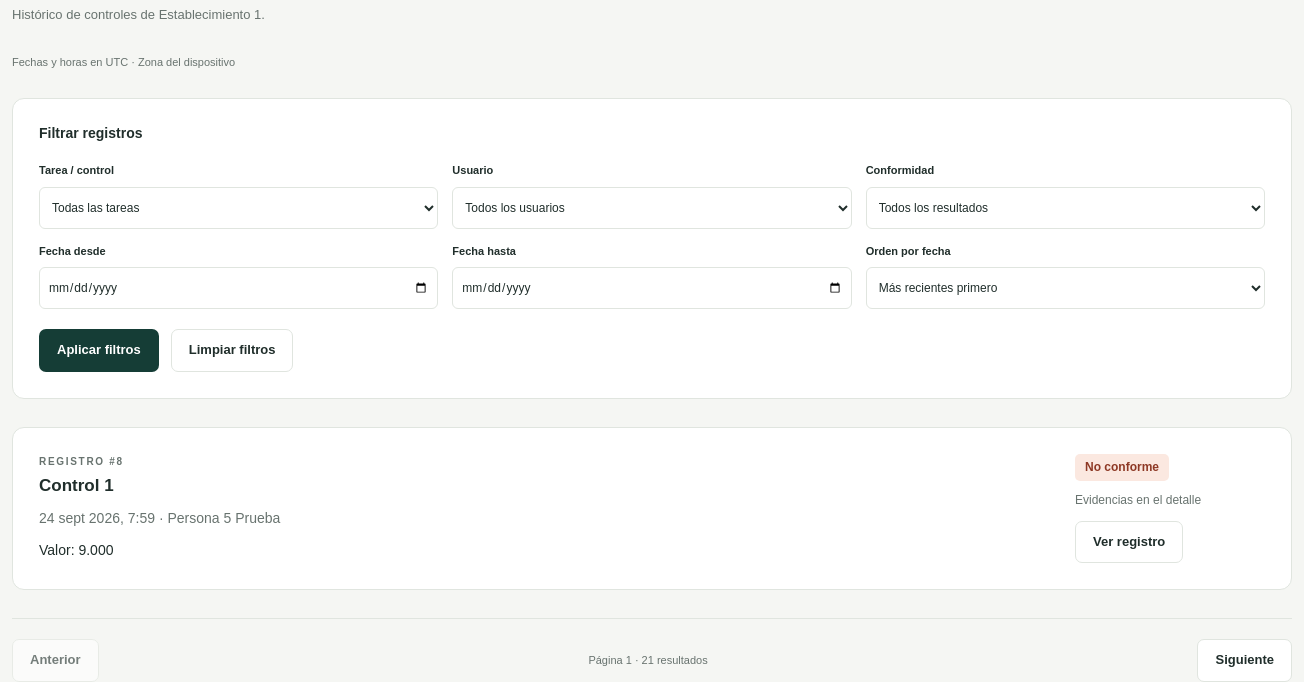
it: paginación anterior/siguiente basada en totalItems
The image size is (1304, 682).
(page scrolled)
Expected: the button with aria-label "Ver registro #8" is shown, [1075,521,1183,563]
Expected: the button "Anterior" is disabled, [12,639,99,681]
Click the button "Siguiente" at (1245, 661), box [1198,639,1292,681]
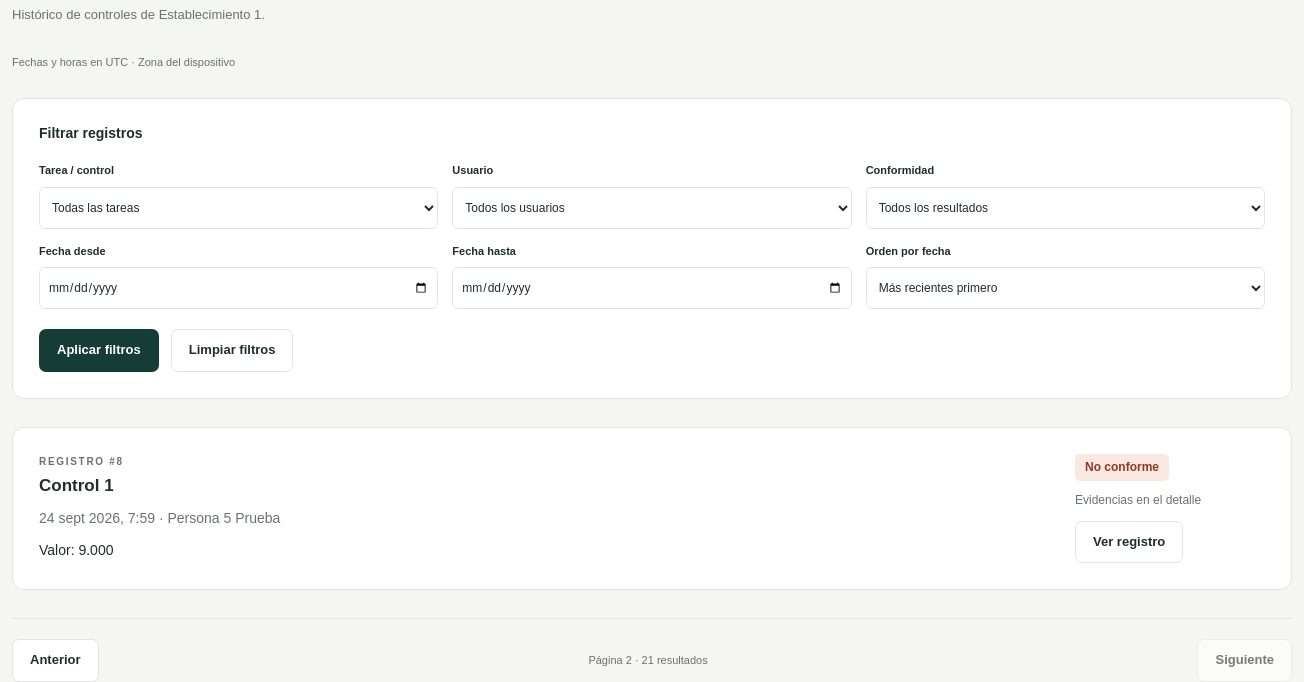
Result: the text "Página 2 · 21 resultados" is shown at [588,652,708,670]
Result: the button "Siguiente" is disabled at [1198,639,1292,681]
Click the button "Anterior" at (55, 661), box [12,639,99,681]
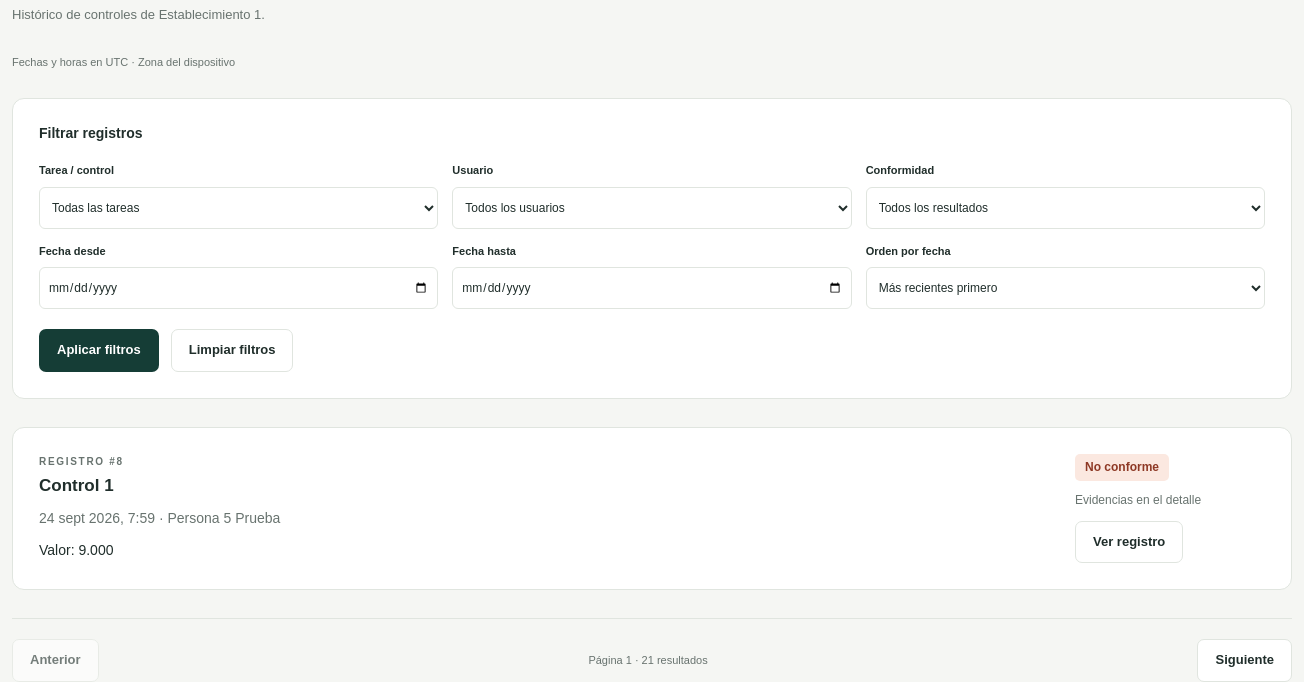
Result: the text "Página 1 · 21 resultados" is shown at [588,652,708,670]
